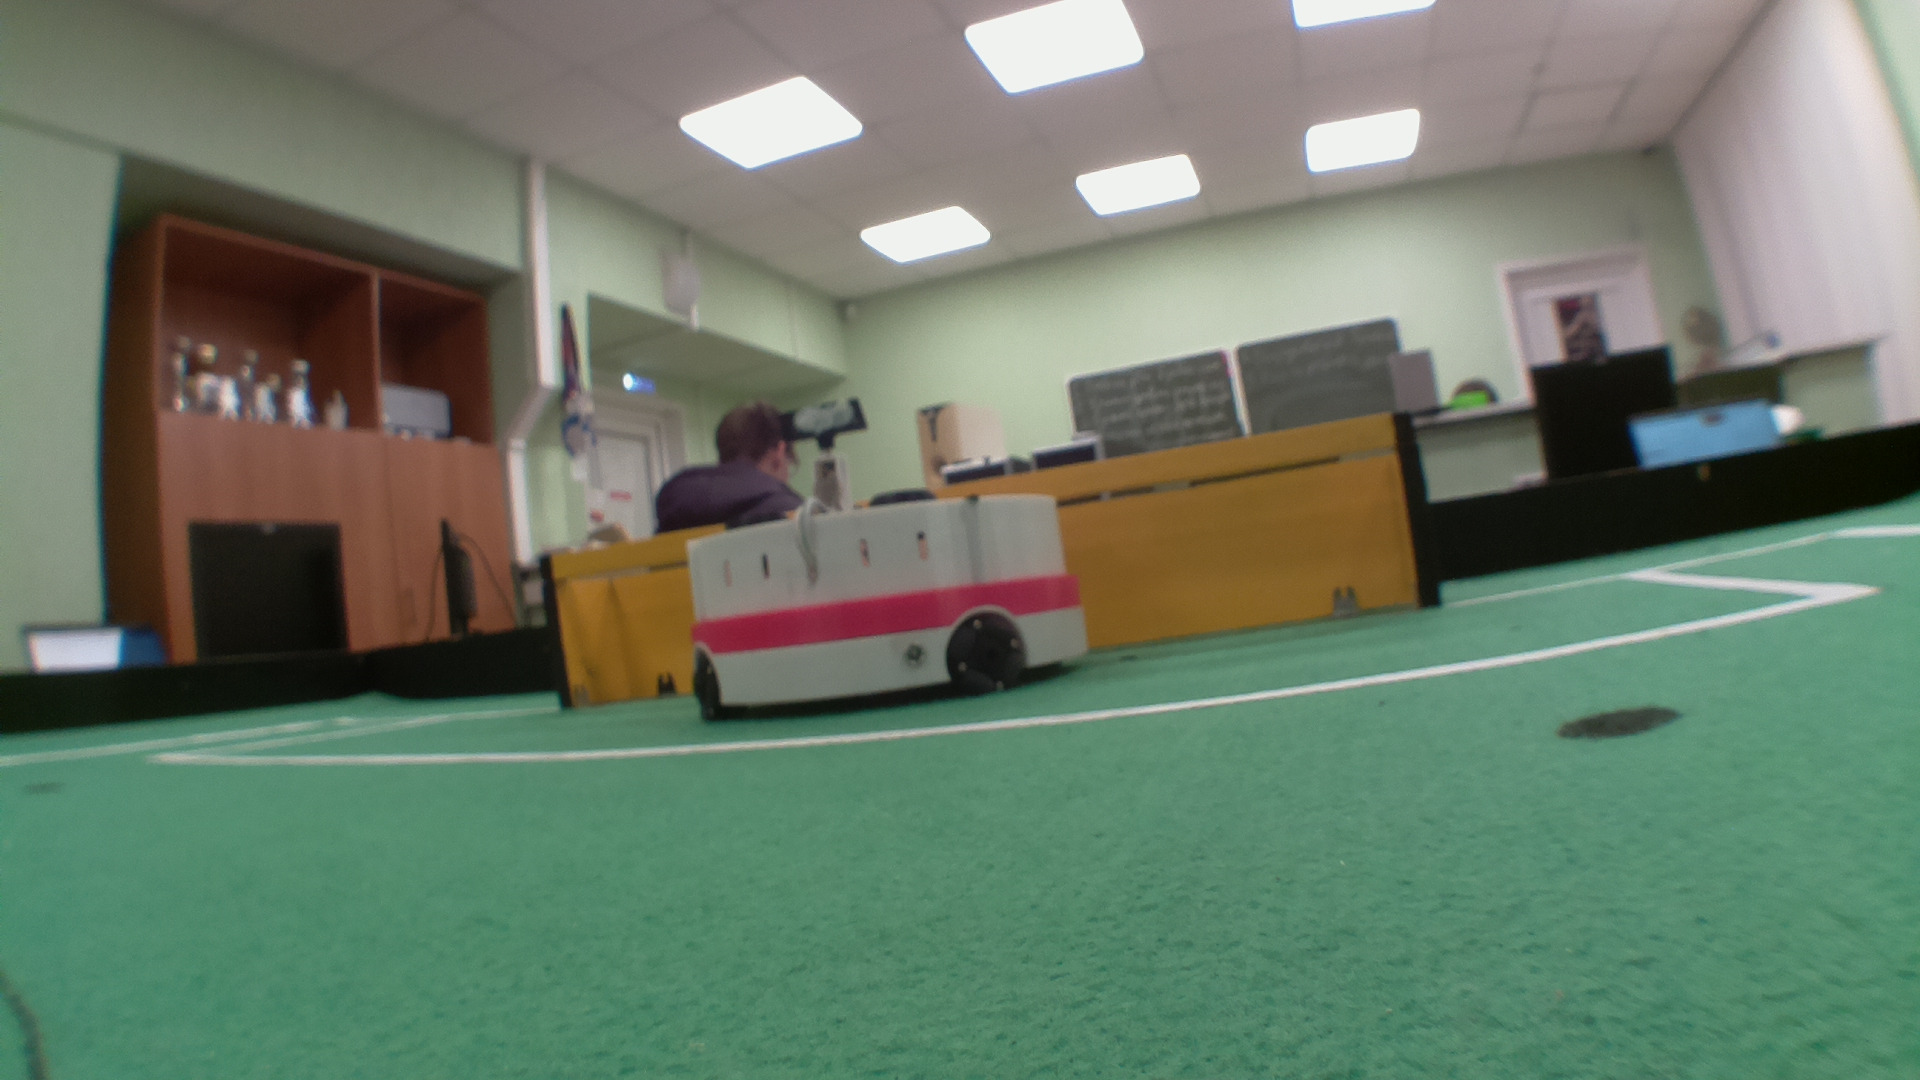YellowGoal: (551, 415, 1424, 708)
